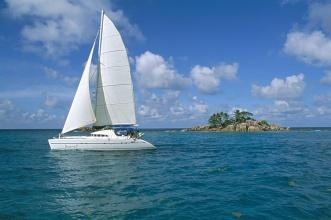fanchuan: (48, 14, 157, 155)
